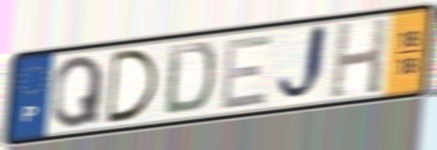D: (105, 47, 162, 127), (161, 40, 218, 118)
E: (218, 31, 276, 113)
H: (327, 15, 391, 101)
J: (274, 21, 330, 108)
Q: (50, 52, 107, 131)
